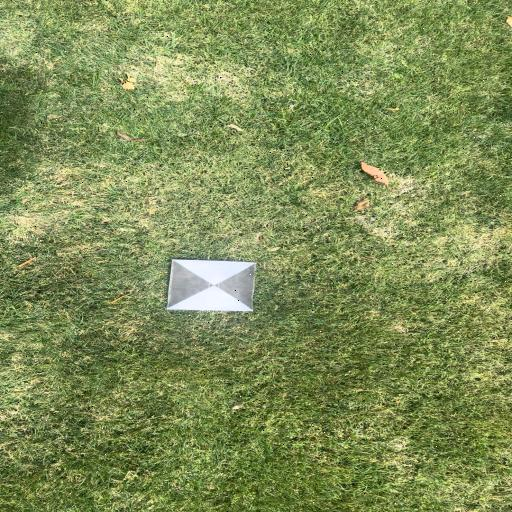target: (168, 259, 253, 310)
